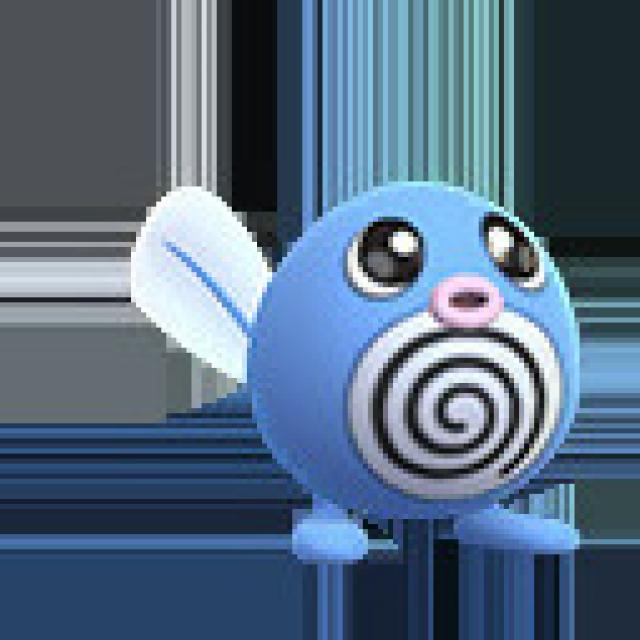Poliwag: (231, 180, 591, 568)
